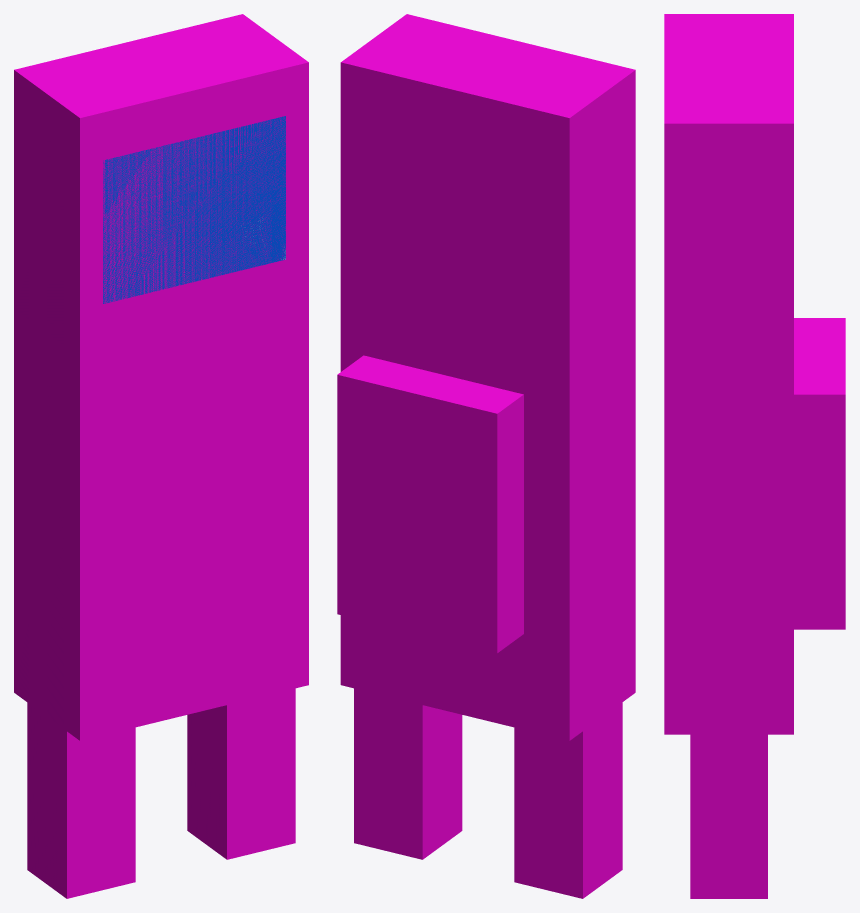
File: Among Us Char(Pink).gltf
3 renders of one model, left to right at view 1: azimuth 30°, elevation 25°; view 2: azimuth 150°, elevation 25°; view 3: azimuth 270°, elevation 25°, orthographic.
Parts seen in each view (by area): view 1: 05df4ede-f837-c188-2e33-ef64abd97eee, cc3eb372-91fc-9da0-78a3-6f8f9a1f2dee, 9b6c5594-3cbf-47c0-bc0a-358ef91bbe2c, 3fa73543-9e25-d95c-6e87-302f2be02166, 2d3a24b5-ea57-e50f-346a-9413c0539ccd; view 2: cc3eb372-91fc-9da0-78a3-6f8f9a1f2dee, 05df4ede-f837-c188-2e33-ef64abd97eee, 5496d620-28b4-4bca-3728-1c5a1bee6332, 3fa73543-9e25-d95c-6e87-302f2be02166, 2d3a24b5-ea57-e50f-346a-9413c0539ccd; view 3: 05df4ede-f837-c188-2e33-ef64abd97eee, cc3eb372-91fc-9da0-78a3-6f8f9a1f2dee, 5496d620-28b4-4bca-3728-1c5a1bee6332, 2d3a24b5-ea57-e50f-346a-9413c0539ccd.
Part boxes in pixels (left/top/right/bottom): 05df4ede-f837-c188-2e33-ef64abd97eee: left=14, top=302, right=308, bottom=740; cc3eb372-91fc-9da0-78a3-6f8f9a1f2dee: left=14, top=14, right=308, bottom=357; 9b6c5594-3cbf-47c0-bc0a-358ef91bbe2c: left=103, top=116, right=285, bottom=303; 3fa73543-9e25-d95c-6e87-302f2be02166: left=27, top=702, right=135, bottom=898; 2d3a24b5-ea57-e50f-346a-9413c0539ccd: left=187, top=688, right=295, bottom=859; cc3eb372-91fc-9da0-78a3-6f8f9a1f2dee: left=340, top=14, right=635, bottom=357; 05df4ede-f837-c188-2e33-ef64abd97eee: left=340, top=302, right=635, bottom=740; 5496d620-28b4-4bca-3728-1c5a1bee6332: left=337, top=355, right=523, bottom=653; 3fa73543-9e25-d95c-6e87-302f2be02166: left=514, top=702, right=622, bottom=898; 2d3a24b5-ea57-e50f-346a-9413c0539ccd: left=354, top=688, right=462, bottom=859; 05df4ede-f837-c188-2e33-ef64abd97eee: left=664, top=358, right=793, bottom=734; cc3eb372-91fc-9da0-78a3-6f8f9a1f2dee: left=664, top=14, right=793, bottom=358; 5496d620-28b4-4bca-3728-1c5a1bee6332: left=794, top=318, right=845, bottom=629; 2d3a24b5-ea57-e50f-346a-9413c0539ccd: left=690, top=734, right=767, bottom=898.
Bounding box in the file's own units: 0.625 × 2.06 × 0.4375.
Materials: 4 (4 with a texture image).
